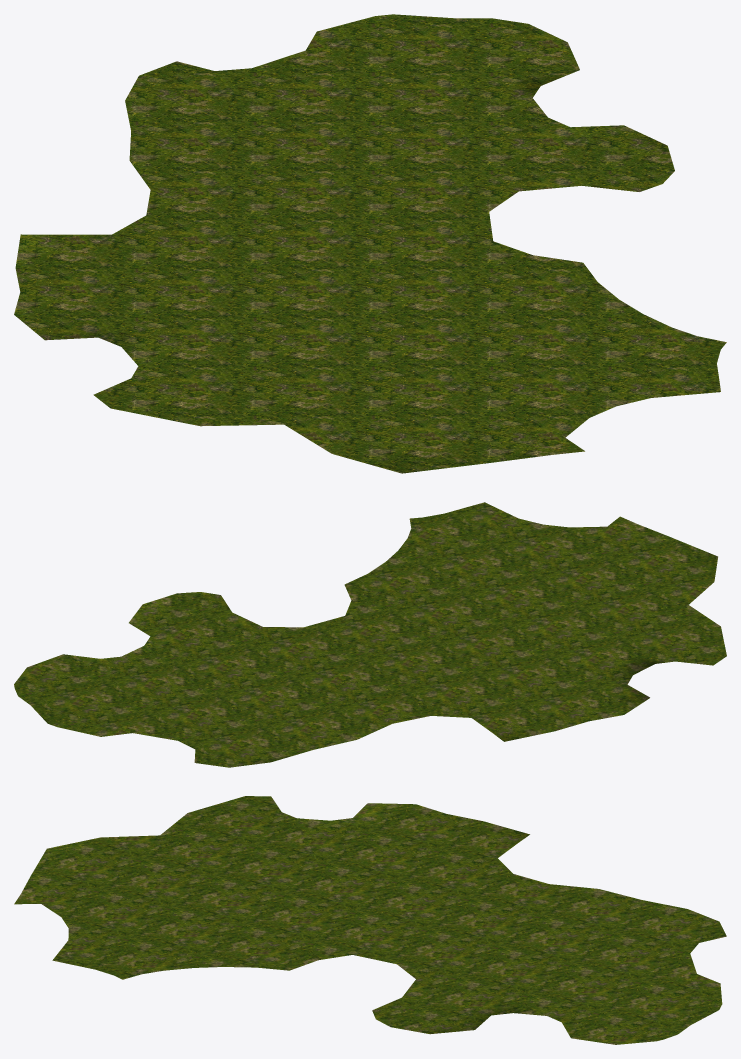
File: OVERHILL_A_01_LINE242.fbx
3 renders of one model, top to bottom at view 1: azimuth 30°, elevation 25°; view 2: azimuth 150°, elevation 25°; view 3: azimuth 270°, elevation 25°, orthographic. The views are drawn at different scales.
Parts seen in each view (by area): view 1: OVERHILL_A_01_LINE242; view 2: OVERHILL_A_01_LINE242; view 3: OVERHILL_A_01_LINE242.
Boxes of the visible parts, left/top/right/bottom form: OVERHILL_A_01_LINE242: left=14, top=14, right=726, bottom=473; OVERHILL_A_01_LINE242: left=14, top=502, right=726, bottom=767; OVERHILL_A_01_LINE242: left=14, top=796, right=726, bottom=1044.
Size of the model in its own units: 179012 by 130 by 216723.
Materials: 1 (1 with a texture image).
